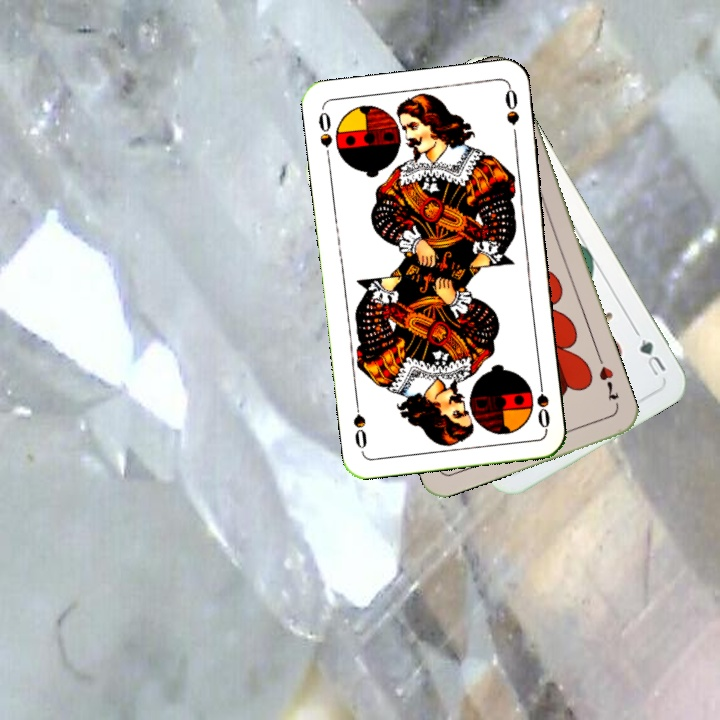GU: (635, 334, 669, 379)
H7: (595, 362, 622, 404)
SO: (532, 372, 553, 431), (314, 106, 335, 165)
